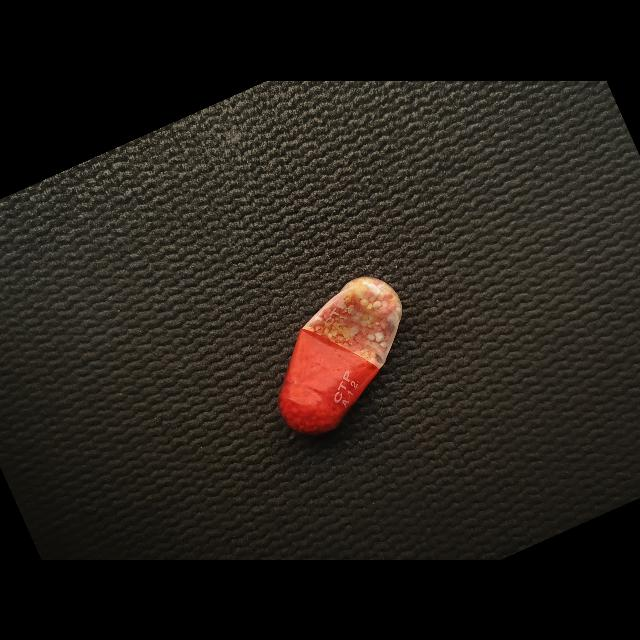Defective Capsule: (286, 277, 402, 406)
